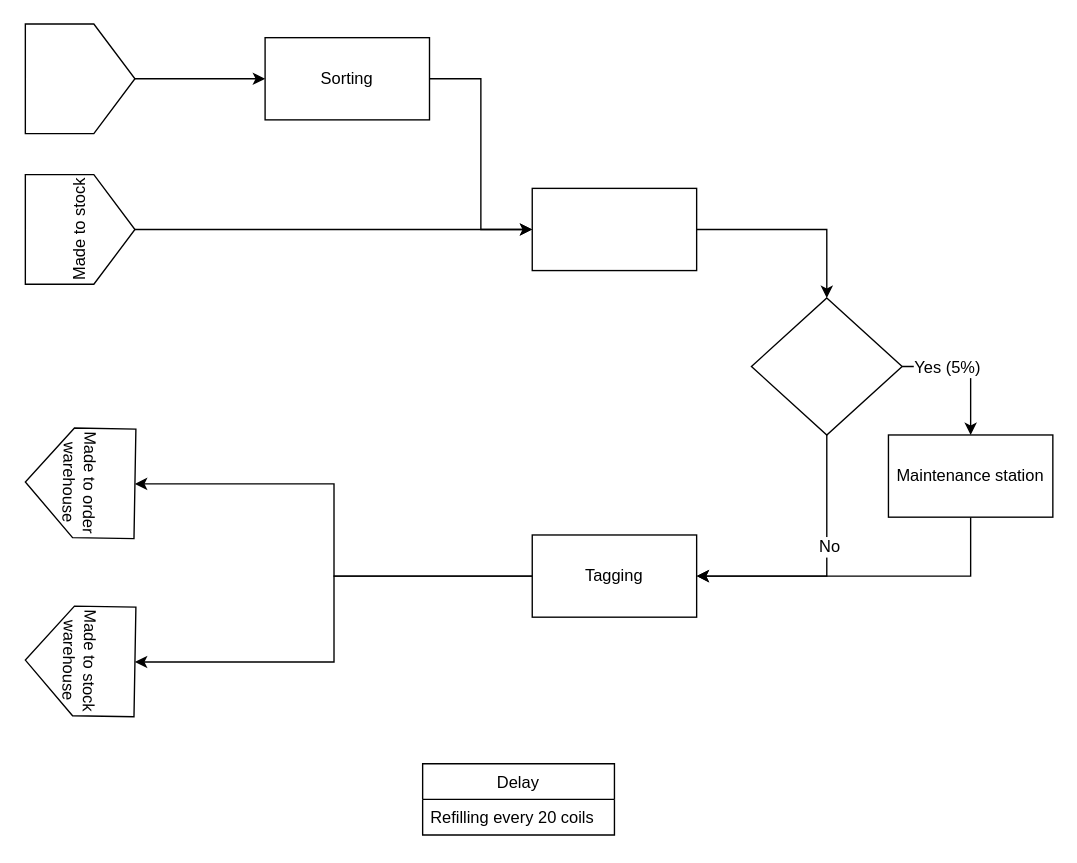
This 1077x863 diagram has some shape labels left out. Here are the shapes that lost their labels. From the top down, the centre of each, then its label:
the point at 79,78: Made to order
the point at 614,229: Packing
the point at 826,366: Need maintenance?
